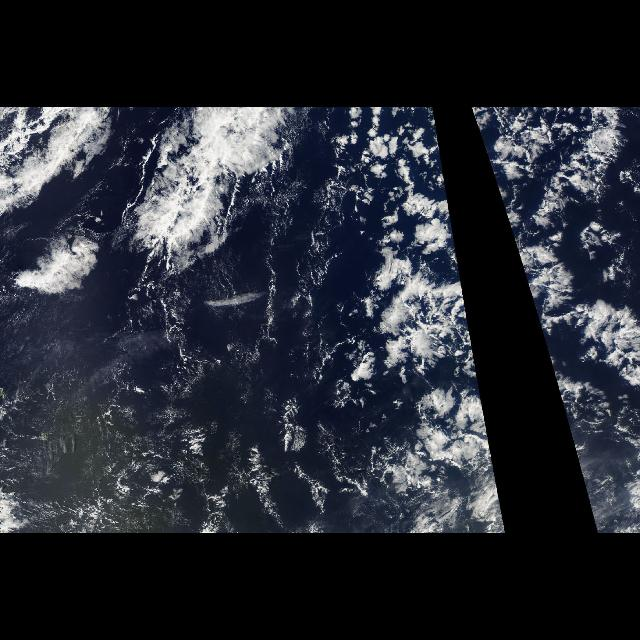Fish: (114, 107, 316, 285)
Flower: (470, 109, 640, 534), (340, 109, 506, 534)
Sugar: (0, 288, 312, 534)
